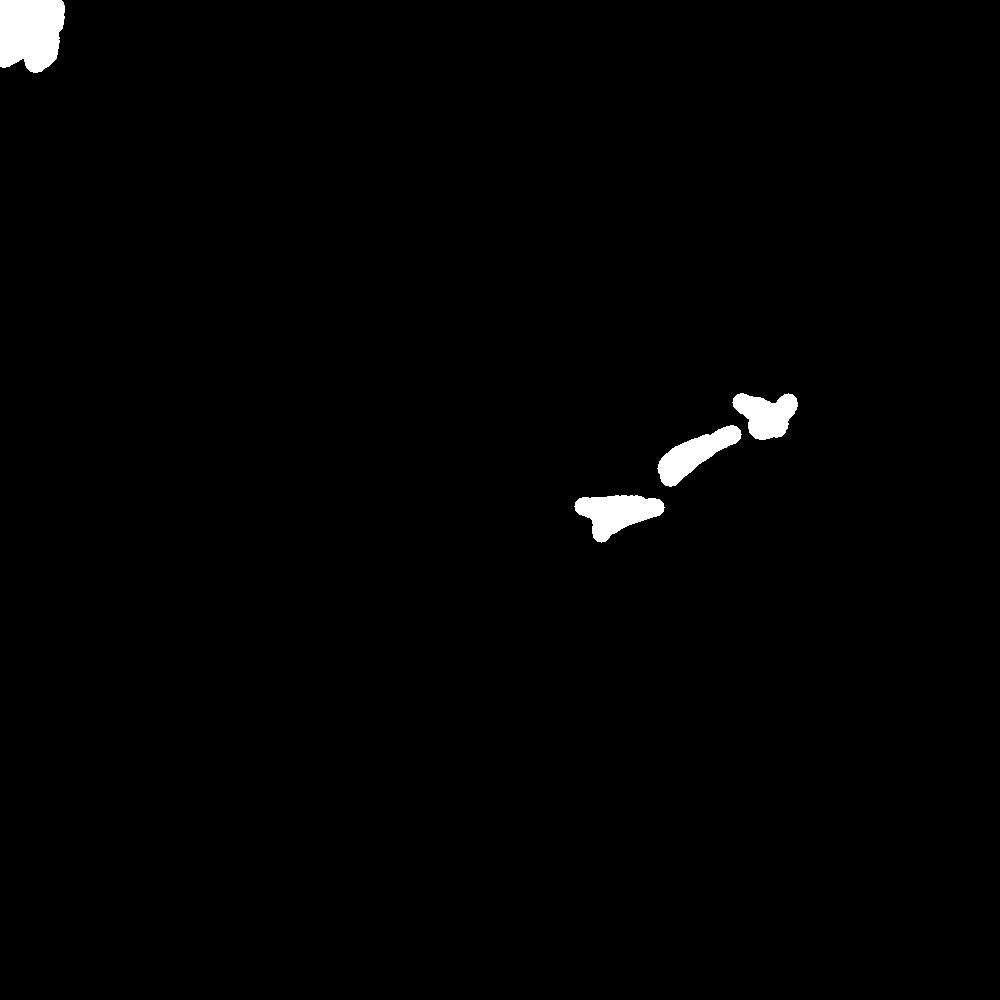illegal: (660, 392, 797, 488), (1, 1, 71, 69), (576, 491, 667, 536)
